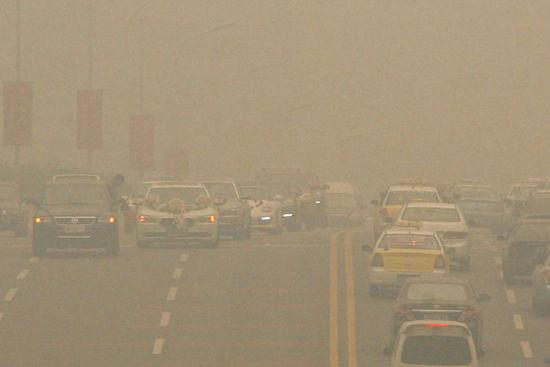car: (389, 272, 492, 356), (28, 174, 125, 255), (384, 201, 479, 275), (361, 227, 455, 300), (132, 181, 225, 248), (381, 317, 485, 367), (371, 182, 446, 249), (252, 165, 313, 233), (267, 165, 329, 230), (182, 180, 250, 236), (497, 216, 550, 286), (234, 179, 297, 235), (447, 179, 506, 230), (222, 183, 282, 231), (313, 181, 367, 230), (513, 189, 550, 237), (1, 182, 30, 237)
